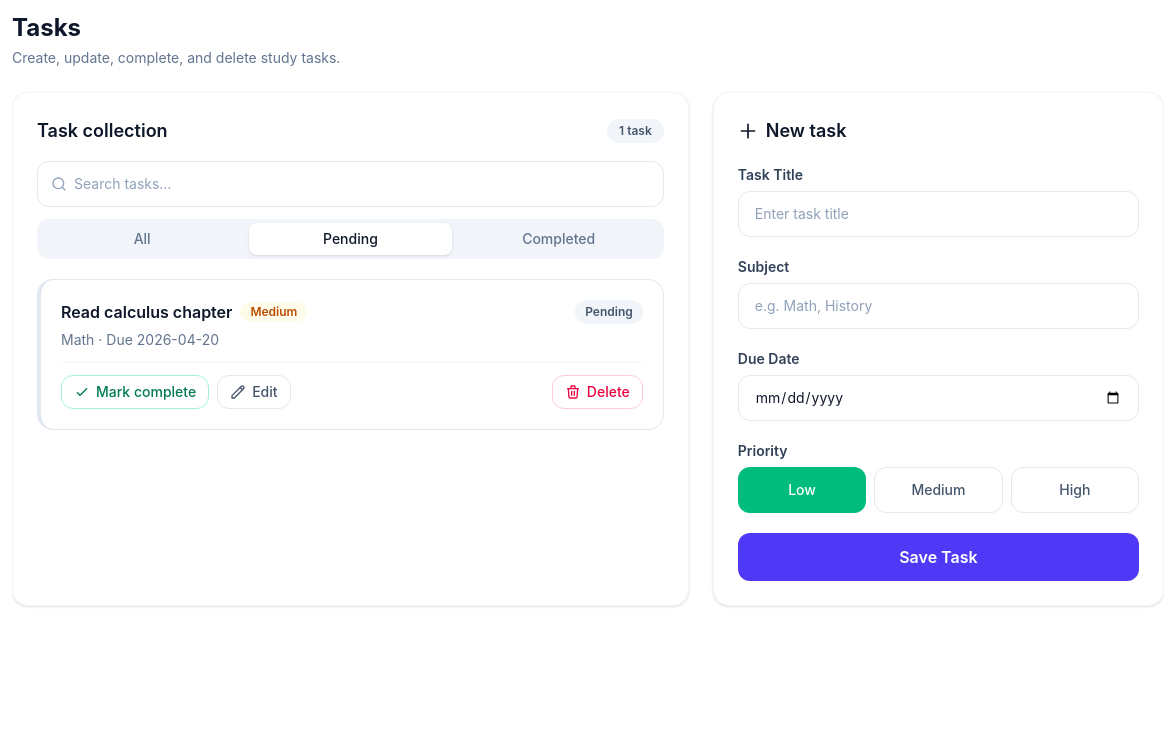
Test: AddTaskPage › creates a task through the service
The width and height of the screenshot is (1164, 732).
Type "Prepare history essay" into the field labelled "Task Title".
click(938, 214); type("Prepare history essay")  # box [738,191,1139,237]
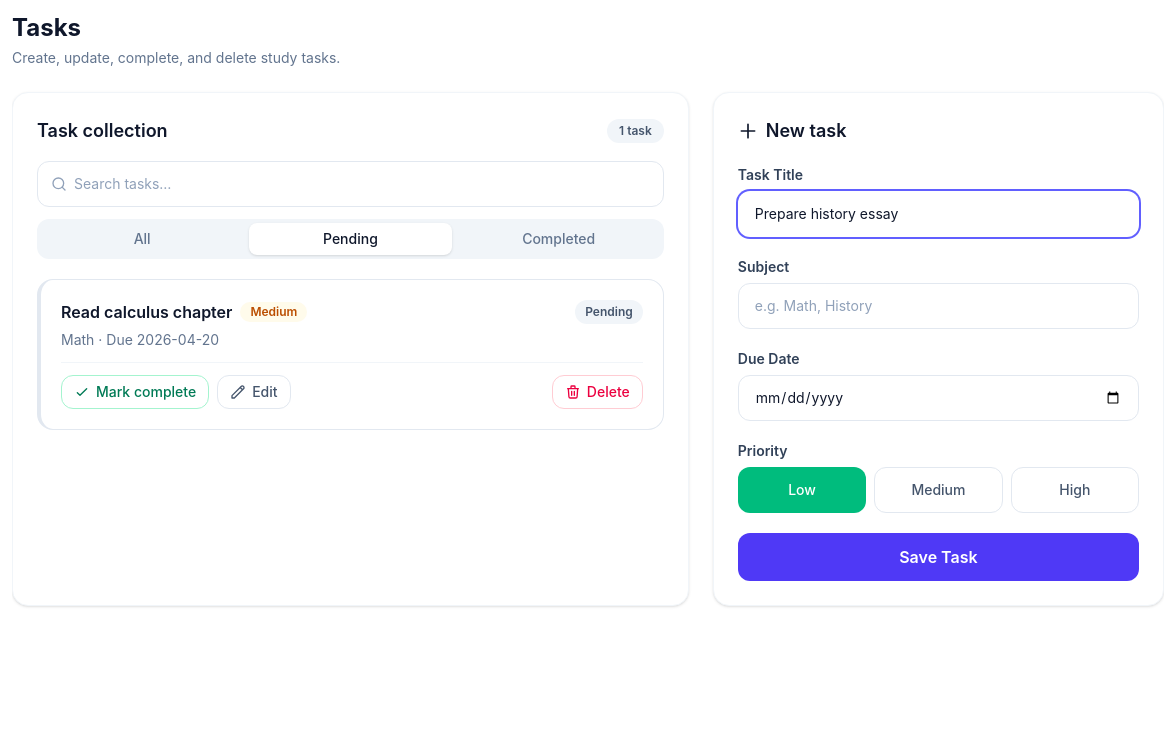
Type "History" into the field labelled "Subject".
click(938, 306); type("History")  # box [738,283,1139,329]
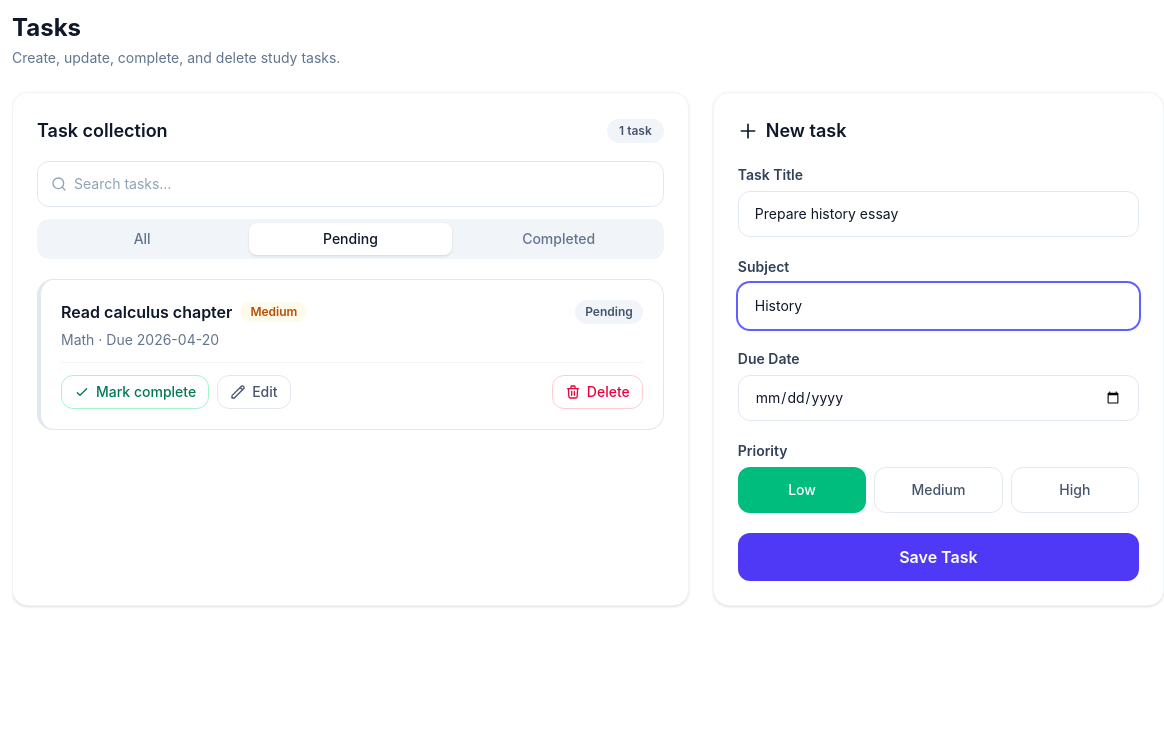
Type "2026-04-24" into the date field labelled "Due Date".
click(938, 398); type("2026-04-24")  # box [738,375,1139,421]
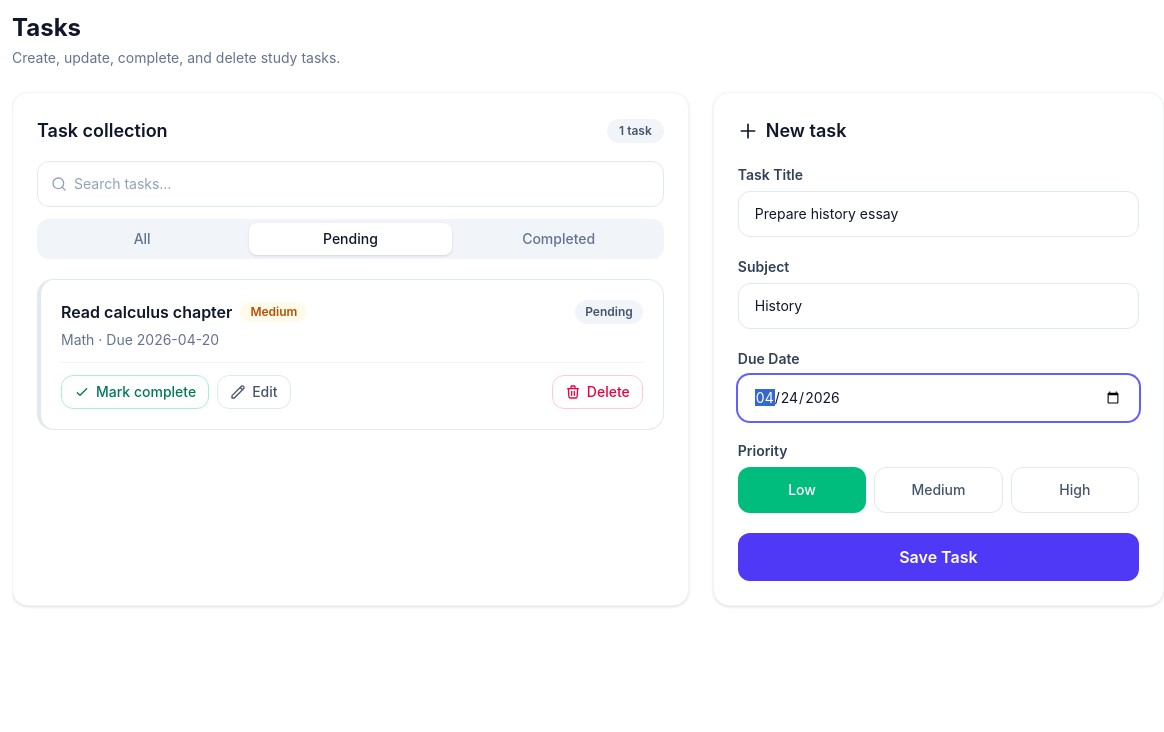
Click the button "High".
click(1075, 490)  # box [1011,467,1139,513]
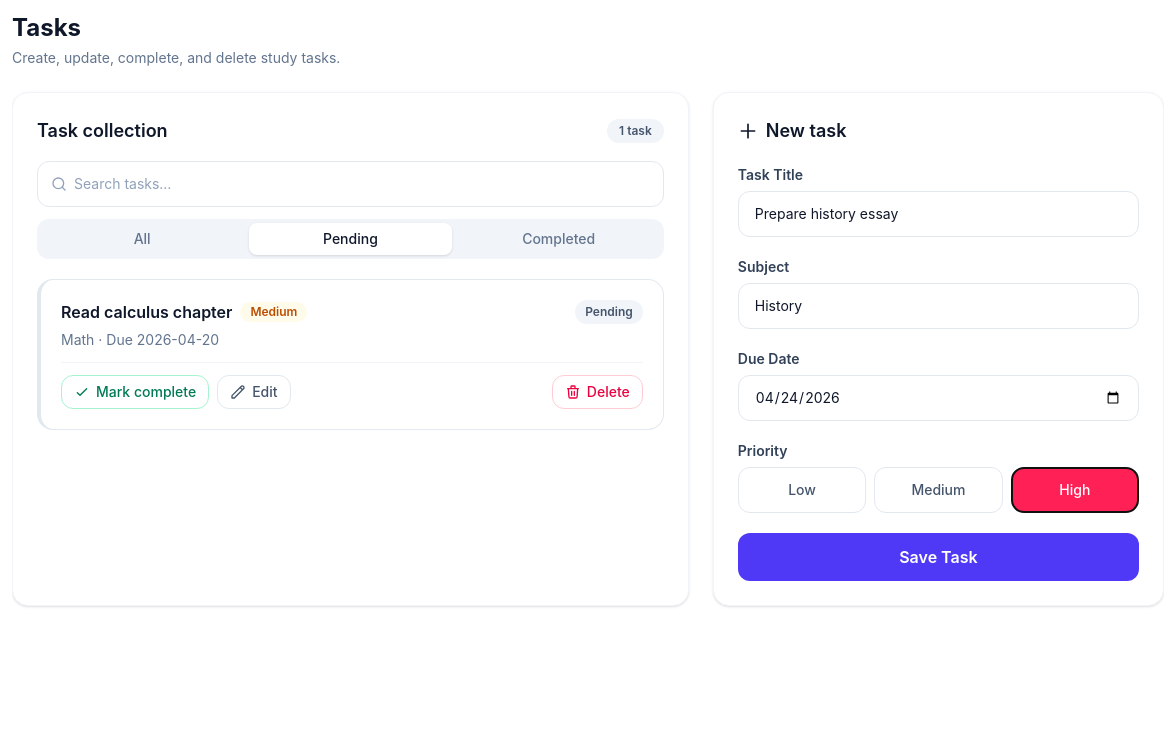
Click the button "Save Task".
click(938, 557)  # box [738,533,1139,581]
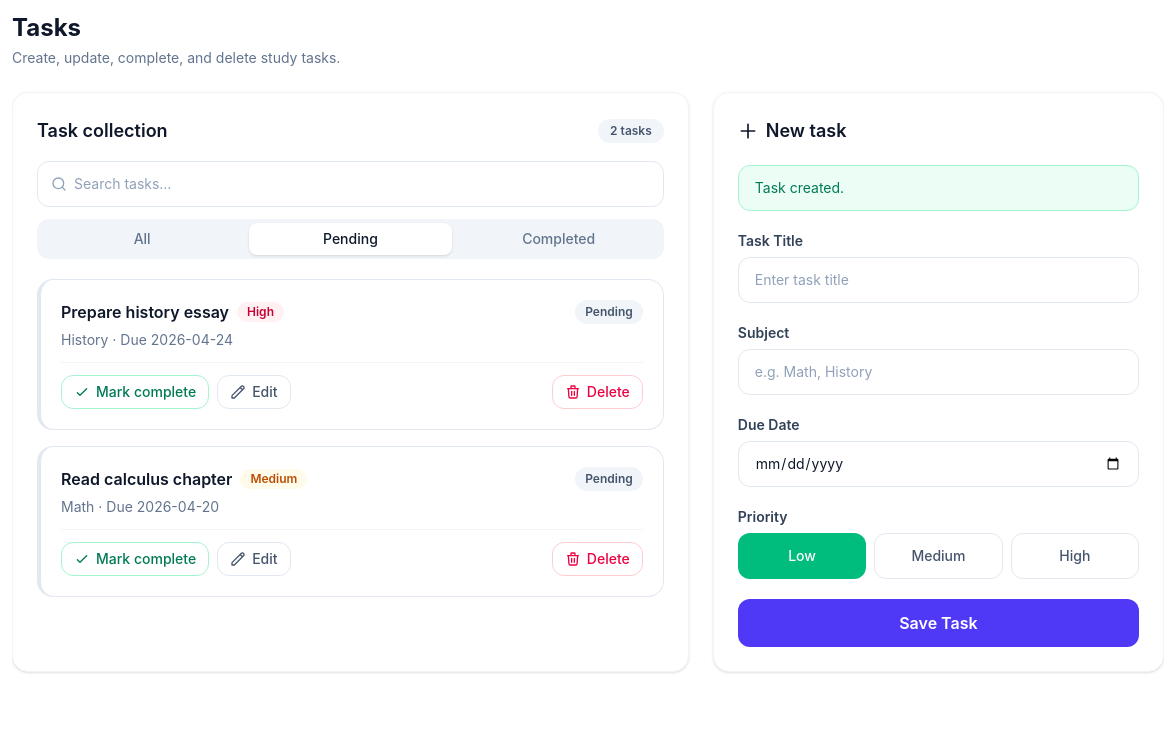
Expected: the text "Task created." is shown, [738,165,1139,211]
Expected: the field labelled "Task Title" is empty, [738,257,1139,303]
Expected: the field labelled "Subject" is empty, [738,349,1139,395]
